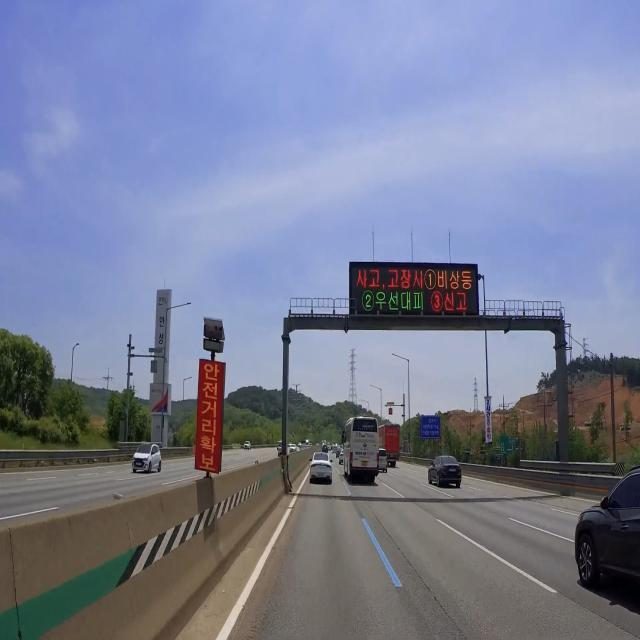car: (360, 459, 369, 468), (135, 460, 143, 470), (448, 466, 456, 475), (316, 471, 327, 477), (379, 458, 384, 466), (389, 454, 395, 459)
